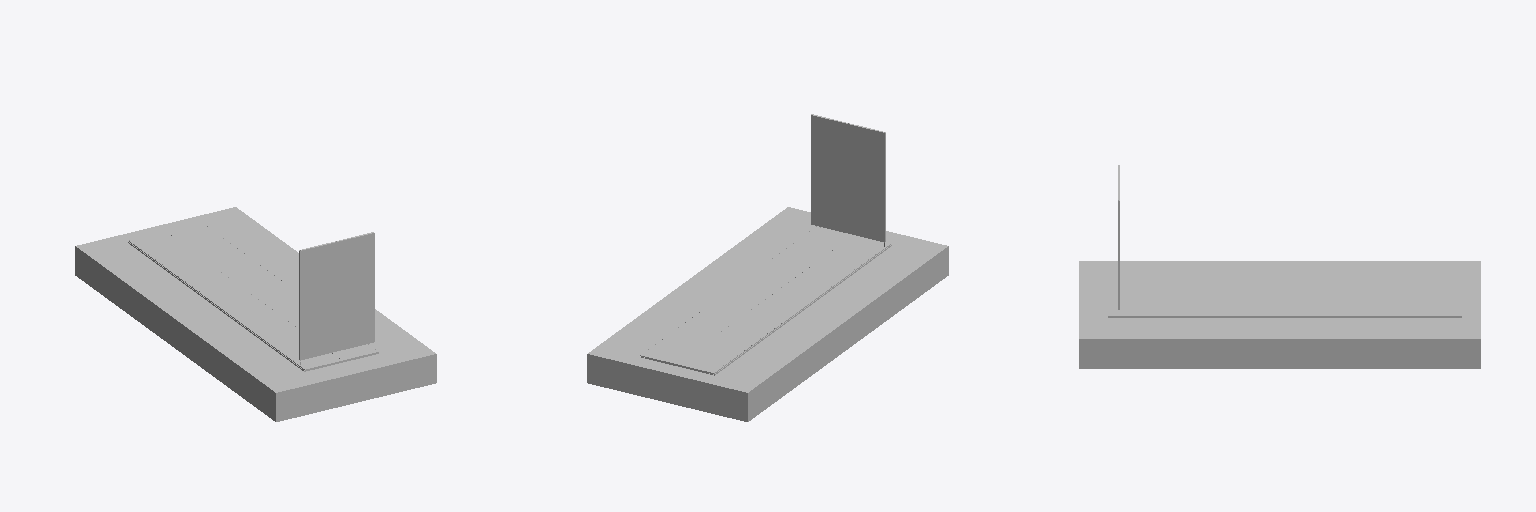
Rendered from 873252_DETTAGLIO.obj.
The picture shows the model from 3 angles: view 1: azimuth 30°, elevation 25°; view 2: azimuth 150°, elevation 25°; view 3: azimuth 270°, elevation 25°; orthographic projection.
Parts seen in each view (by area): view 1: Box001, pannello_laterale_dx, RIPIANO; view 2: Box001, pannello_laterale_dx, RIPIANO; view 3: Box001, pannello_laterale_dx.
Part boxes in pixels (bbox=[...]): Box001: bbox=[75, 207, 436, 421]; pannello_laterale_dx: bbox=[128, 222, 378, 371]; RIPIANO: bbox=[299, 232, 374, 360]; Box001: bbox=[587, 207, 948, 421]; pannello_laterale_dx: bbox=[640, 226, 891, 375]; RIPIANO: bbox=[811, 114, 885, 242]; Box001: bbox=[1079, 261, 1480, 368]; pannello_laterale_dx: bbox=[1108, 280, 1461, 317].
Bounding box in the file's own units: 122 × 106 × 264.